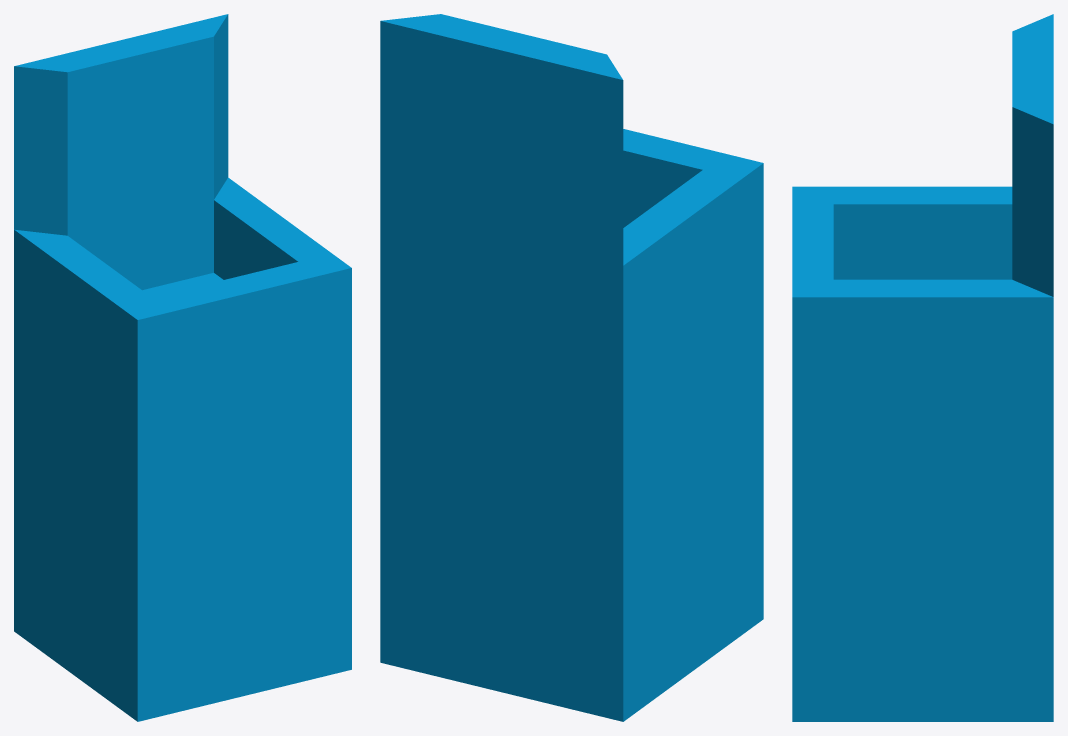
Rendered from recyclingBin.fbx.
3 views of the same model, side by side, from view 1: azimuth 30°, elevation 25°; view 2: azimuth 150°, elevation 25°; view 3: azimuth 270°, elevation 25° (orthographic). The views are drawn at different scales.
Parts seen in each view (by area): view 1: pCube144; view 2: pCube144; view 3: pCube144.
Part boxes in pixels (<box>): pCube144: <box>14,14,351,721</box>; pCube144: <box>380,14,763,721</box>; pCube144: <box>792,14,1053,721</box>.
Size of the model in its own units: 10.1 by 25.49 by 10.1.
